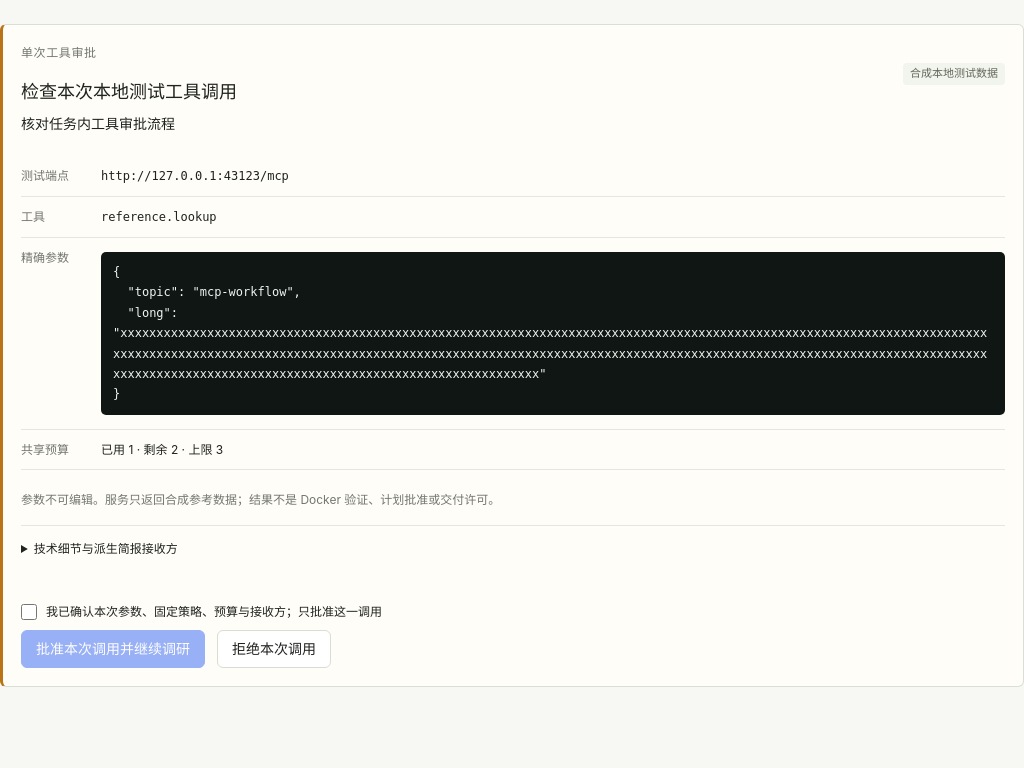
Test: reports a confirmed server rejection without treating it as a lost response
Expected: the text "核对任务内工具审批流程" is shown, [21,115,175,132]
What coordinates should you click on to do the following:
click the button "拒绝本次调用"
I would click on:
 (274, 649)
Its box is [217,630,331,668].
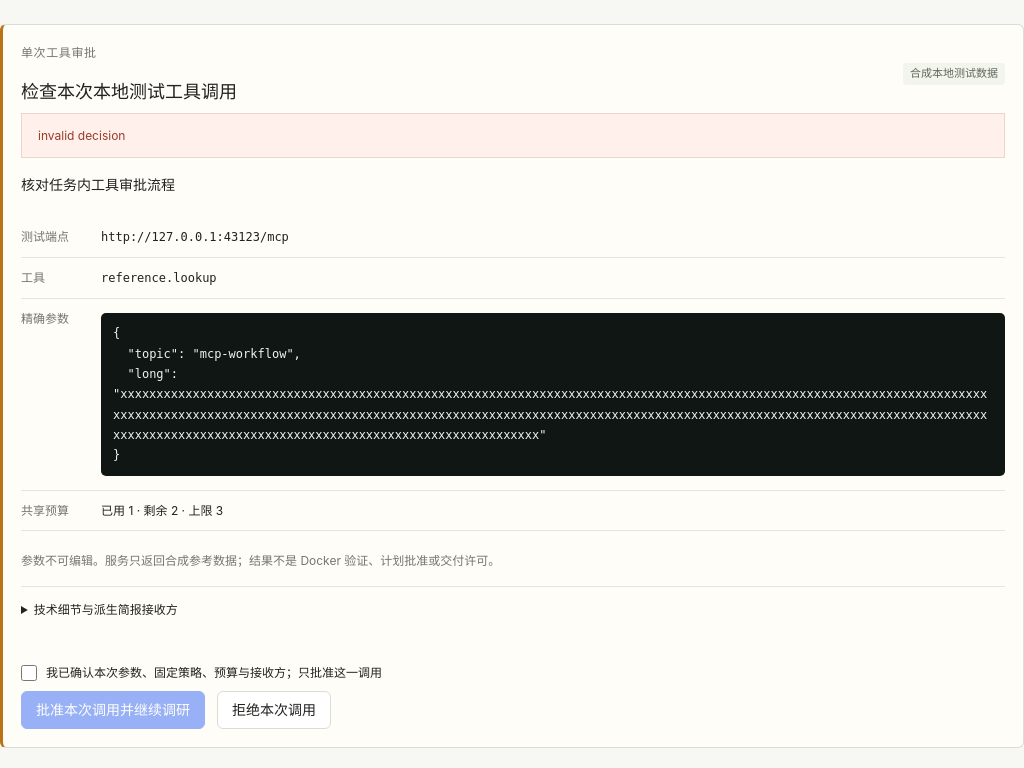
Now the message reads "invalid decision", box [38,128,125,143]
